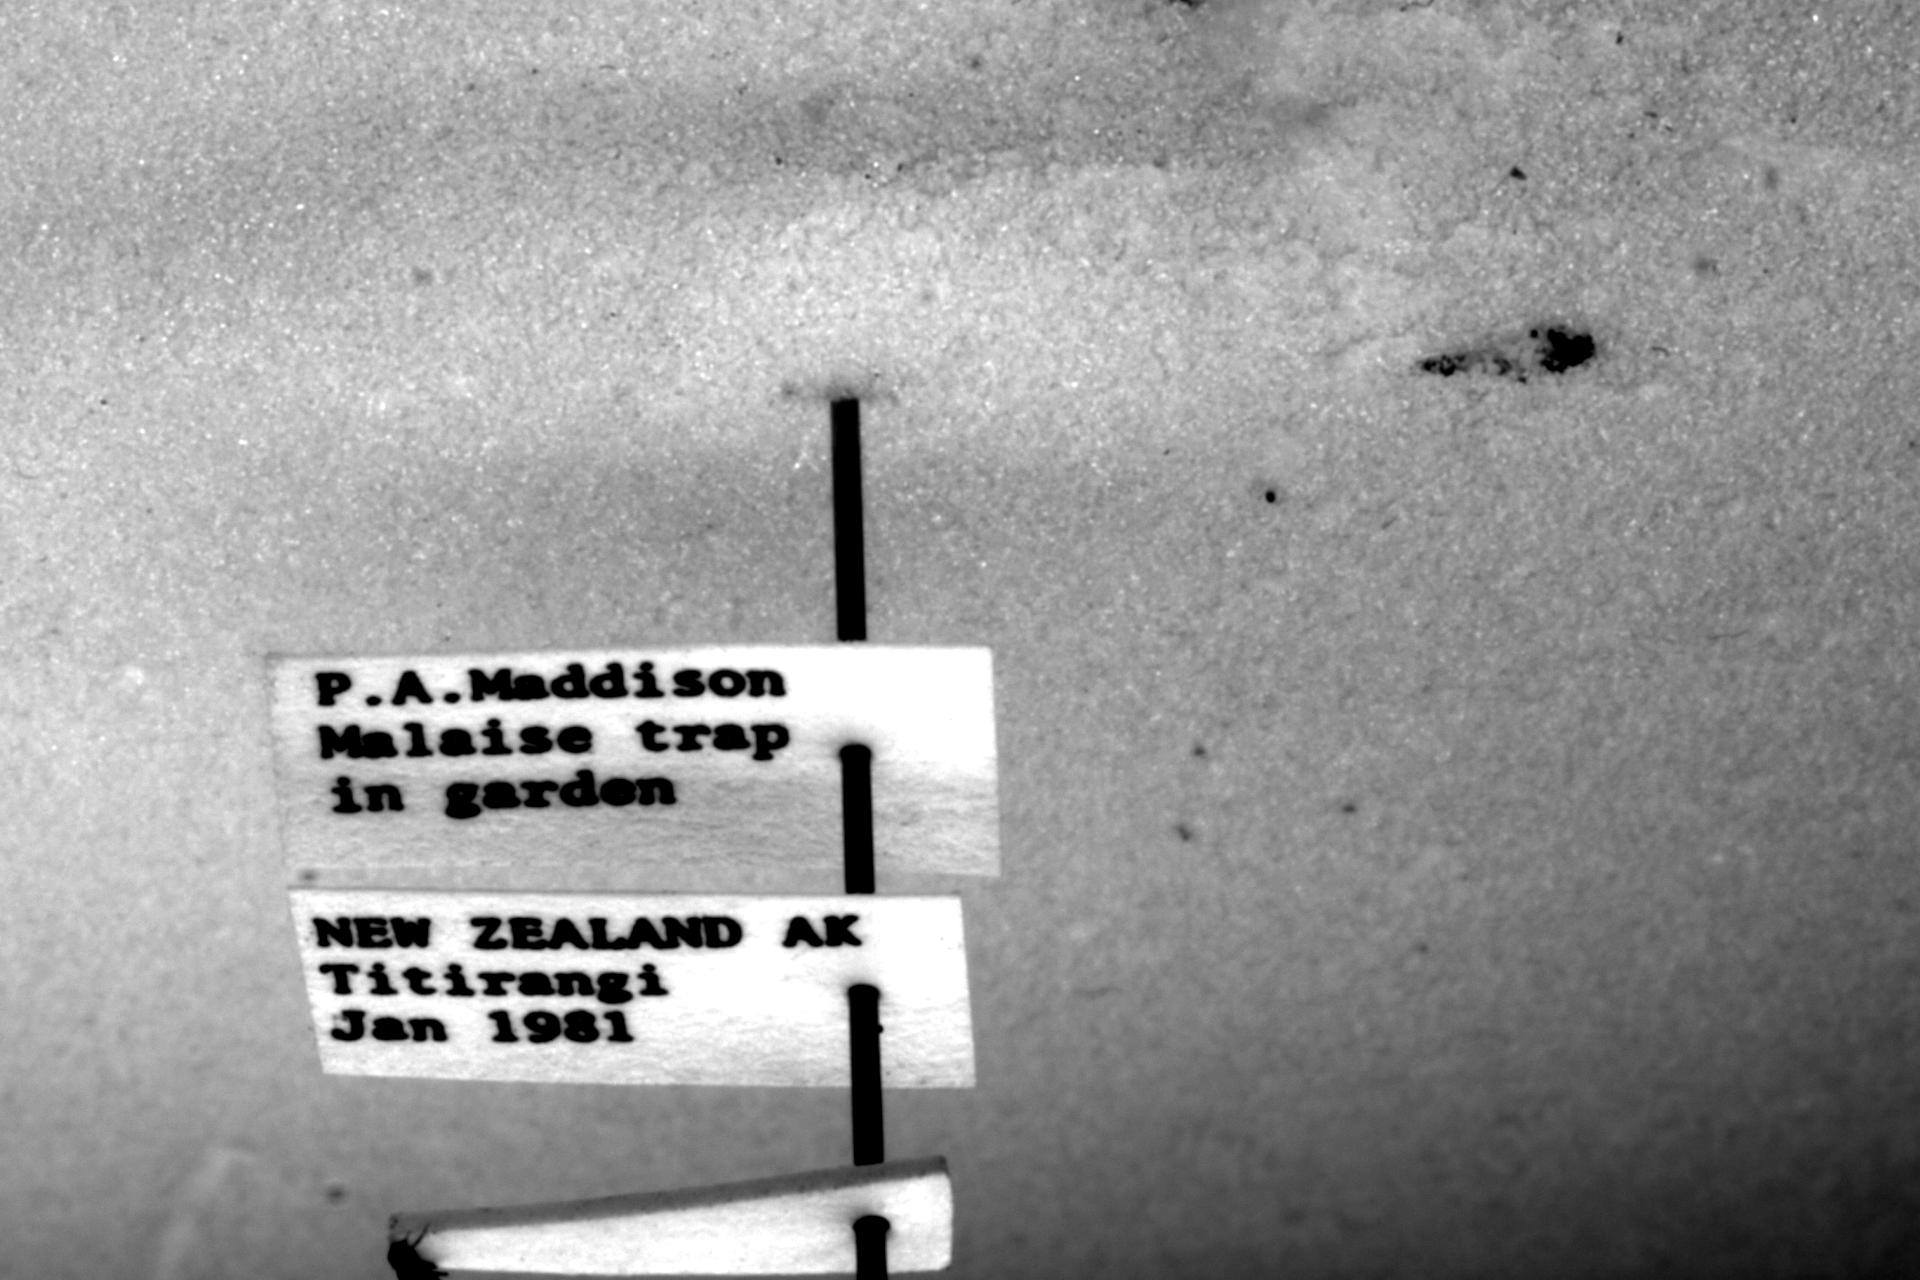typed_label: (270, 641, 1001, 878), (289, 889, 975, 1088)
